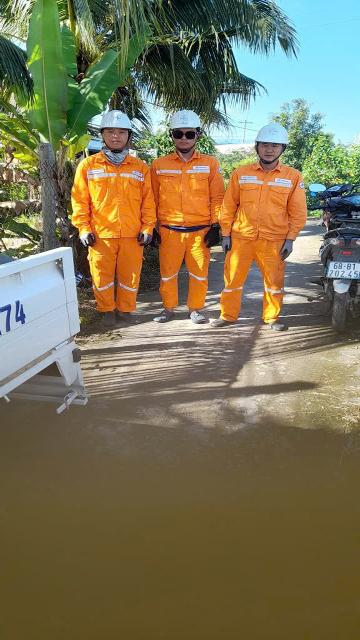gloves: (128, 224, 159, 248), (75, 226, 104, 248), (280, 240, 302, 261), (214, 232, 237, 252), (203, 228, 222, 247)
helmet: (150, 101, 206, 133), (251, 122, 293, 148), (102, 107, 138, 133)
shoes: (89, 303, 122, 326), (259, 310, 287, 333), (115, 306, 142, 327), (154, 304, 177, 326), (210, 311, 231, 332), (187, 308, 207, 325)
